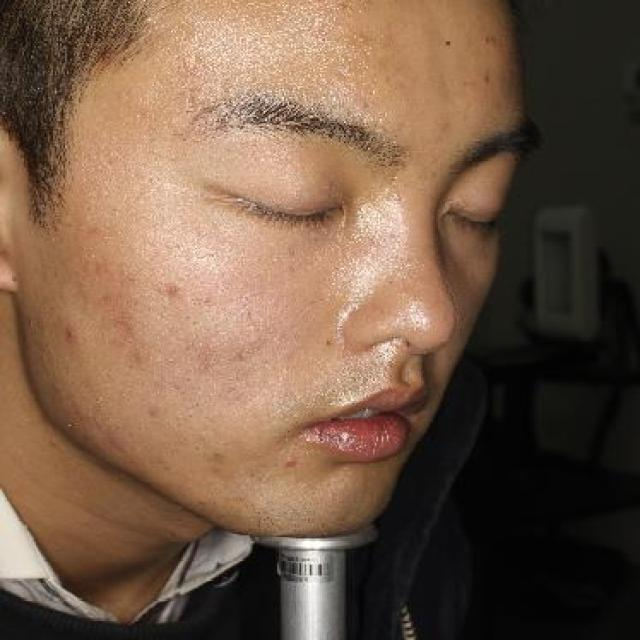blackheads: (479, 32, 496, 46), (200, 294, 214, 303), (359, 3, 372, 9)
dark spot: (231, 337, 270, 369), (279, 455, 303, 474), (207, 448, 229, 468), (156, 280, 178, 298), (145, 405, 161, 420)
papules: (60, 323, 82, 343)
